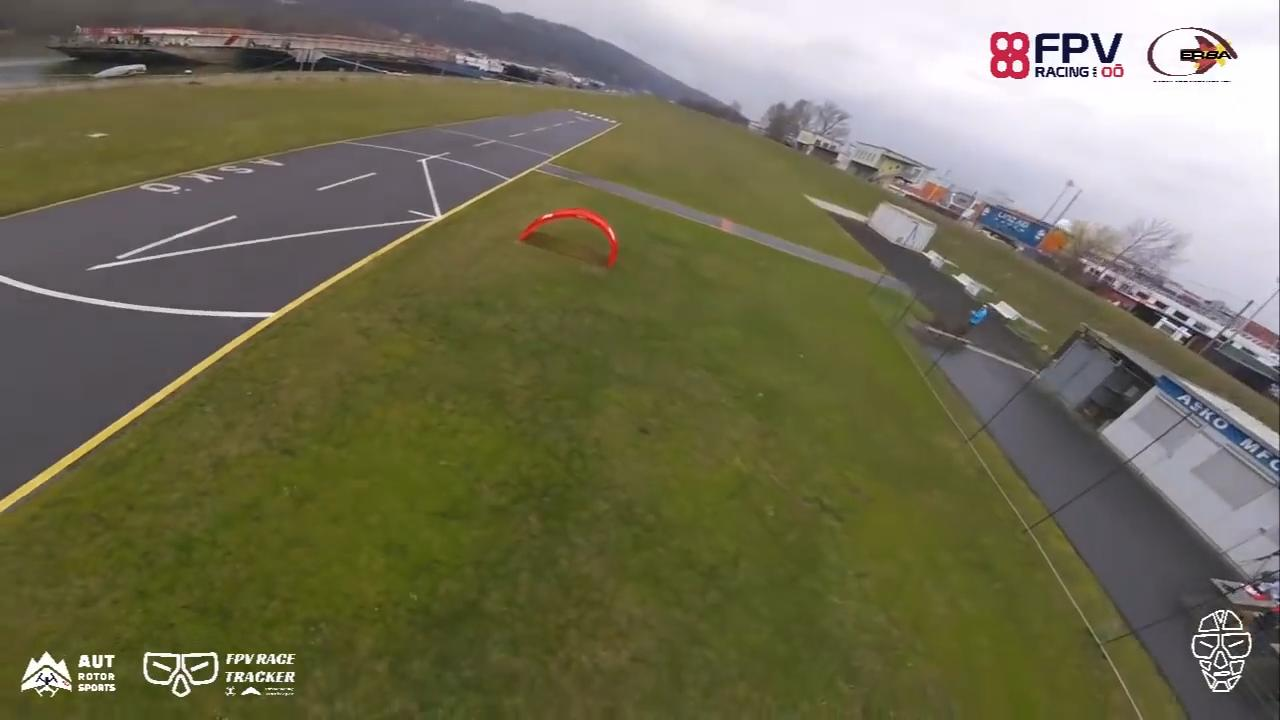gate: (517, 206, 618, 273)
